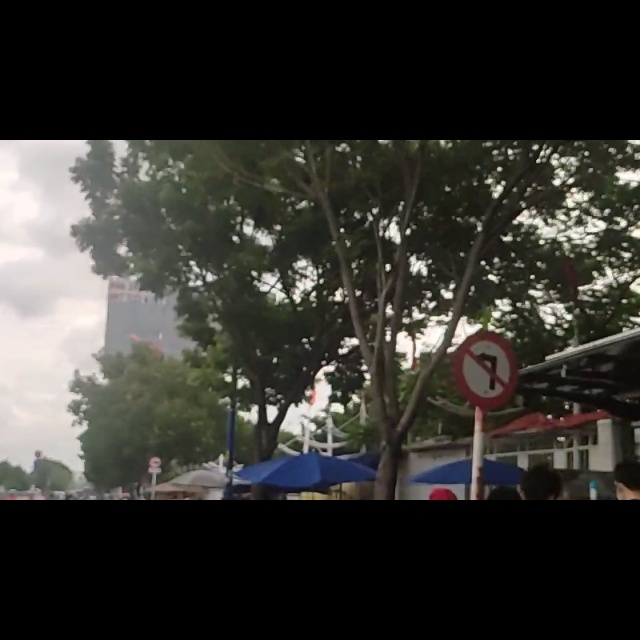bien_cam: (456, 338, 514, 473)
